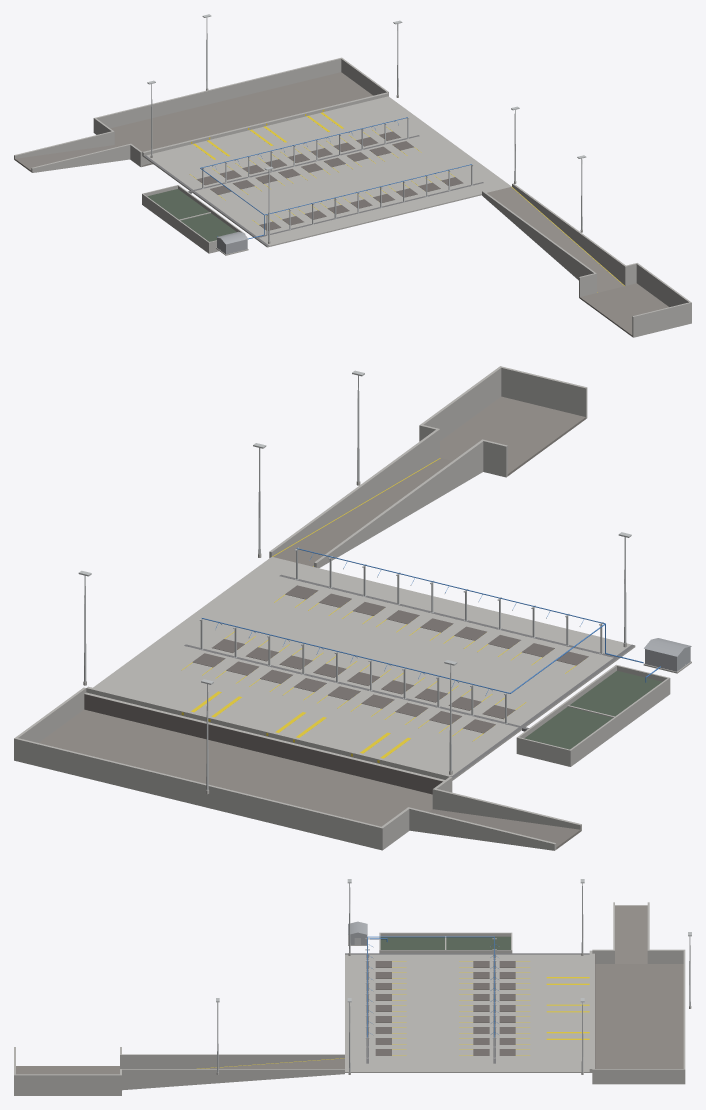
File: SM_SlagCoolingYard.fbx
3 renders of one model, top to bottom at view 1: azimuth 30°, elevation 25°; view 2: azimuth 150°, elevation 25°; view 3: azimuth 270°, elevation 25°, orthographic. The views are drawn at different scales.
Visible parts, largest first — view 1: YARD_Pad, YARD_BreakingPit, YARD_PitApronRamp, YARD_PotStations, YARD_PondWater, YARD_TippingStation, YARD_SprayHeaders, YARD_SettlingPond, YARD_LightMasts, YARD_PumpHouse; view 2: YARD_Pad, YARD_BreakingPit, YARD_PitApronRamp, YARD_TippingStation, YARD_PotStations, YARD_PondWater, YARD_SettlingPond, YARD_SprayHeaders, YARD_LightMasts, YARD_PumpHouse; view 3: YARD_Pad, YARD_BreakingPit, YARD_PitApronRamp, YARD_PotStations, YARD_PondWater, YARD_TippingStation, YARD_SettlingPond, YARD_LightMasts, YARD_SprayHeaders, YARD_PumpHouse.
Part boxes in pixels (x1,y1,x2,y2): YARD_Pad: [143, 96, 511, 247]; YARD_BreakingPit: [14, 57, 388, 172]; YARD_PitApronRamp: [482, 183, 691, 337]; YARD_PotStations: [189, 126, 463, 230]; YARD_PondWater: [147, 189, 236, 241]; YARD_TippingStation: [142, 92, 388, 165]; YARD_SprayHeaders: [200, 117, 473, 239]; YARD_SettlingPond: [142, 185, 245, 253]; YARD_LightMasts: [147, 14, 586, 243]; YARD_PumpHouse: [216, 231, 248, 255]; YARD_Pad: [93, 557, 635, 780]; YARD_BreakingPit: [14, 687, 581, 850]; YARD_PitApronRamp: [269, 366, 587, 567]; YARD_TippingStation: [84, 686, 451, 794]; YARD_PotStations: [181, 585, 588, 741]; YARD_PondWater: [524, 670, 662, 749]; YARD_SettlingPond: [516, 664, 670, 766]; YARD_SprayHeaders: [199, 547, 635, 724]; YARD_LightMasts: [78, 370, 631, 794]; YARD_PumpHouse: [635, 638, 691, 682]; YARD_Pad: [345, 953, 589, 1072]; YARD_BreakingPit: [592, 902, 685, 1084]; YARD_PitApronRamp: [14, 1047, 344, 1095]; YARD_PotStations: [375, 961, 529, 1055]; YARD_PondWater: [380, 936, 510, 949]; YARD_TippingStation: [546, 950, 595, 1072]; YARD_SettlingPond: [379, 932, 512, 953]; YARD_LightMasts: [216, 879, 691, 1074]; YARD_SprayHeaders: [365, 936, 498, 1058]; YARD_PumpHouse: [348, 921, 387, 945].
Size of the model in its own units: 12560 by 3135 by 20820.
